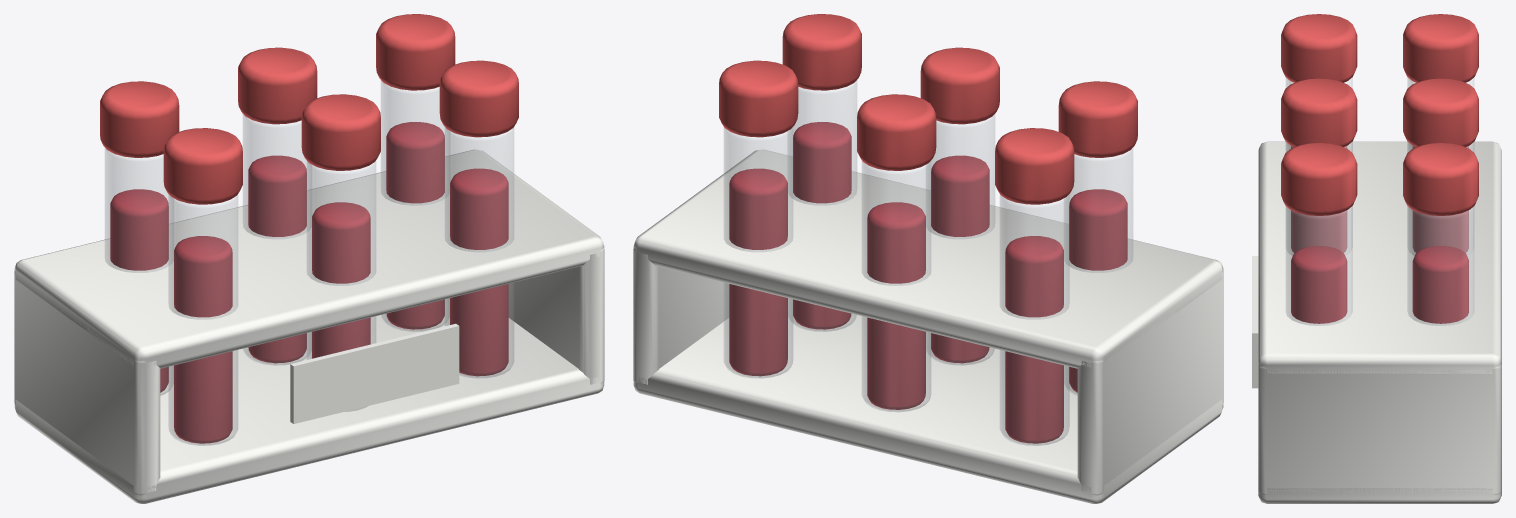
The model's file is gradilla_sangre.glb.
3 renders of one model, left to right at view 1: azimuth 30°, elevation 25°; view 2: azimuth 150°, elevation 25°; view 3: azimuth 270°, elevation 25°, orthographic. The views are drawn at different scales.
Parts seen in each view (by area): view 1: tabla, base, lado-1, tubo00, tubo20, etiqueta, tubo10, sangre00, tubo21, tubo11, sangre20, lado1 (+11 smaller); view 2: tabla, base, lado-1, tubo01, tubo11, tubo21, sangre01, sangre11, sangre21, tubo20, tubo10, lado1 (+10 smaller); view 3: tabla, lado1, tubo20, tubo21, tapon20, tapon21, tapon00, tapon10, tapon01, tapon11, sangre20, sangre21 (+6 smaller).
Part boxes in pixels (box(x1,y1,x2,y2)): tabla: box(14, 149, 604, 368); base: box(14, 298, 604, 503); lado-1: box(14, 270, 160, 495); tubo00: box(168, 194, 237, 445); tubo20: box(445, 127, 513, 378); etiqueta: box(290, 323, 459, 423); tubo10: box(307, 161, 375, 411); sangre00: box(174, 236, 232, 443); tubo21: box(381, 81, 450, 331); tubo11: box(243, 114, 311, 365); sangre20: box(450, 168, 508, 376); lado1: box(508, 248, 604, 384); tabla: box(633, 149, 1223, 368); base: box(633, 298, 1223, 503); lado-1: box(1077, 270, 1223, 495); tubo01: box(1000, 194, 1069, 445); tubo11: box(862, 161, 930, 411); tubo21: box(724, 127, 792, 378); sangre01: box(1005, 236, 1063, 443); sangre11: box(867, 202, 925, 409); sangre21: box(729, 168, 787, 376); tubo20: box(787, 81, 856, 331); tubo10: box(926, 114, 994, 365); lado1: box(633, 248, 729, 384); tabla: box(1258, 141, 1501, 373); lado1: box(1258, 365, 1501, 494); tubo20: box(1286, 206, 1352, 325); tubo21: box(1407, 206, 1473, 325); tapon20: box(1281, 142, 1357, 215); tapon21: box(1403, 142, 1478, 215); tapon00: box(1281, 14, 1357, 82); tapon10: box(1281, 78, 1357, 146); tapon01: box(1403, 14, 1478, 82); tapon11: box(1403, 78, 1478, 147); sangre20: box(1291, 246, 1347, 323); sangre21: box(1412, 246, 1468, 323).
Size of the model in its own units: 0.34 by 0.2225 by 0.164.
